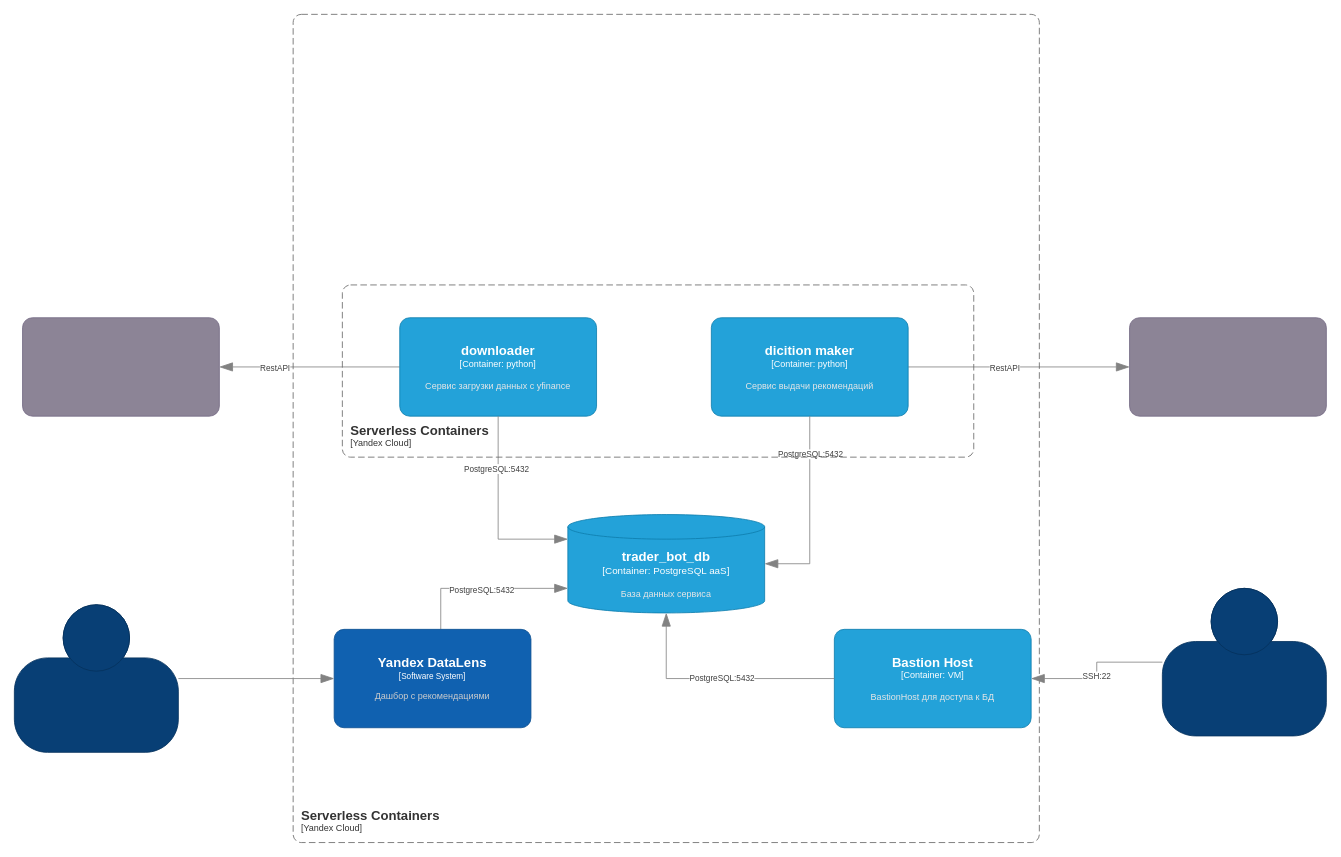
This 1341x857 diagram has some shape labels left out. Here are the shapes that lost their labels. From the top down, the centre of each, then its label:
At pixel 120 366: "yahoo finance [Software System] Источних данных о стоимости ценных бумаг".
At pixel 1227 366: "telegram api [Software System] Телеграм Бот".
At pixel 96 678: "User [Person] Конечный пользователь".
At pixel 1244 662: "Admin [Person] DevOps инженер".
